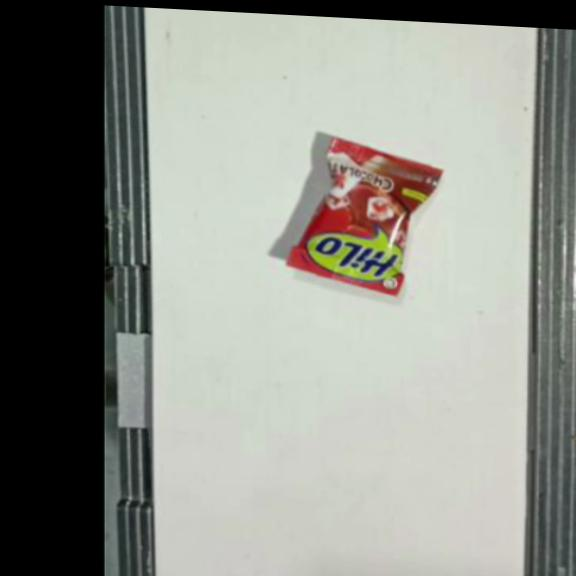Plastik: (285, 133, 443, 300)
